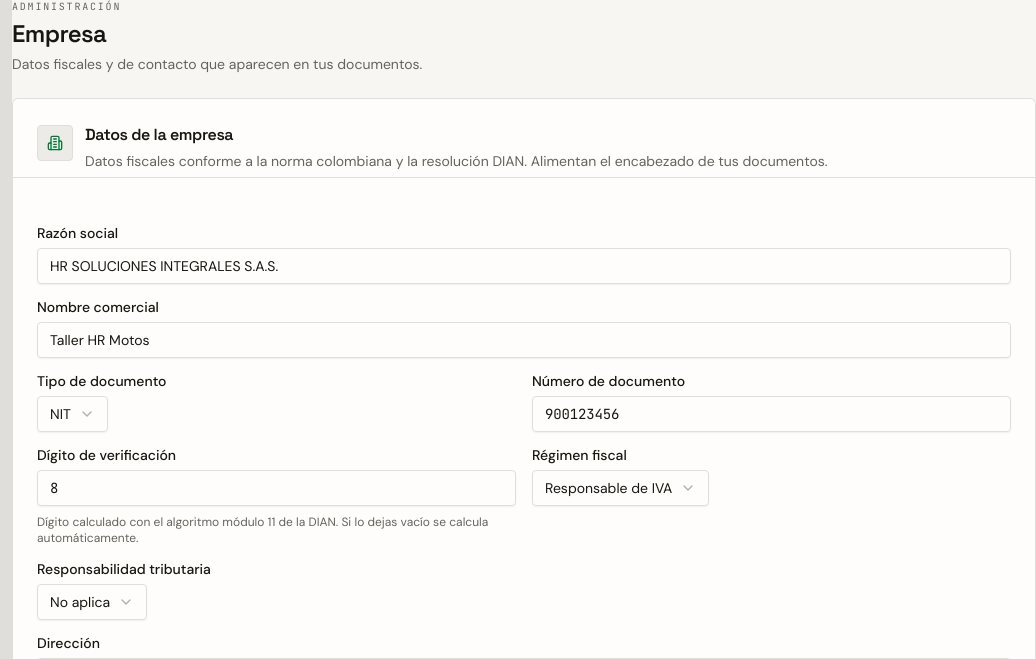
CompanyPage › enables the save button after an administrator edits a field
Type "Taller Nuevo S.A.S." into the field with test id "company.legal_name_input" at (524, 266), box [37, 248, 1011, 284]
(page scrolled)
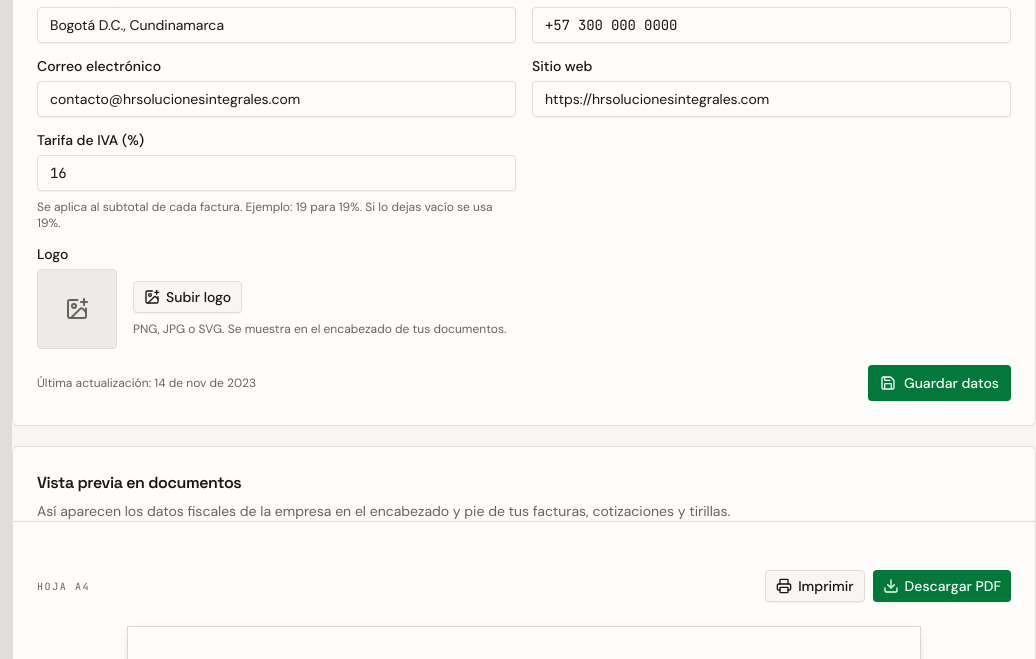
Expected: the button with test id "company.save_button" is enabled, [868, 365, 1011, 401]
